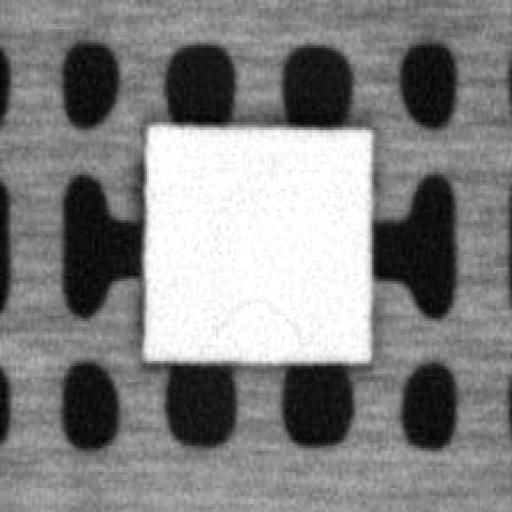DIE_CRACK: (209, 289, 307, 345)
